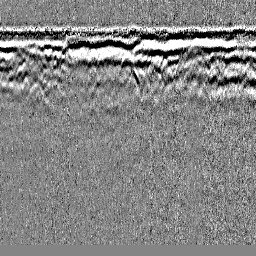cavity: (117, 51, 139, 84)
